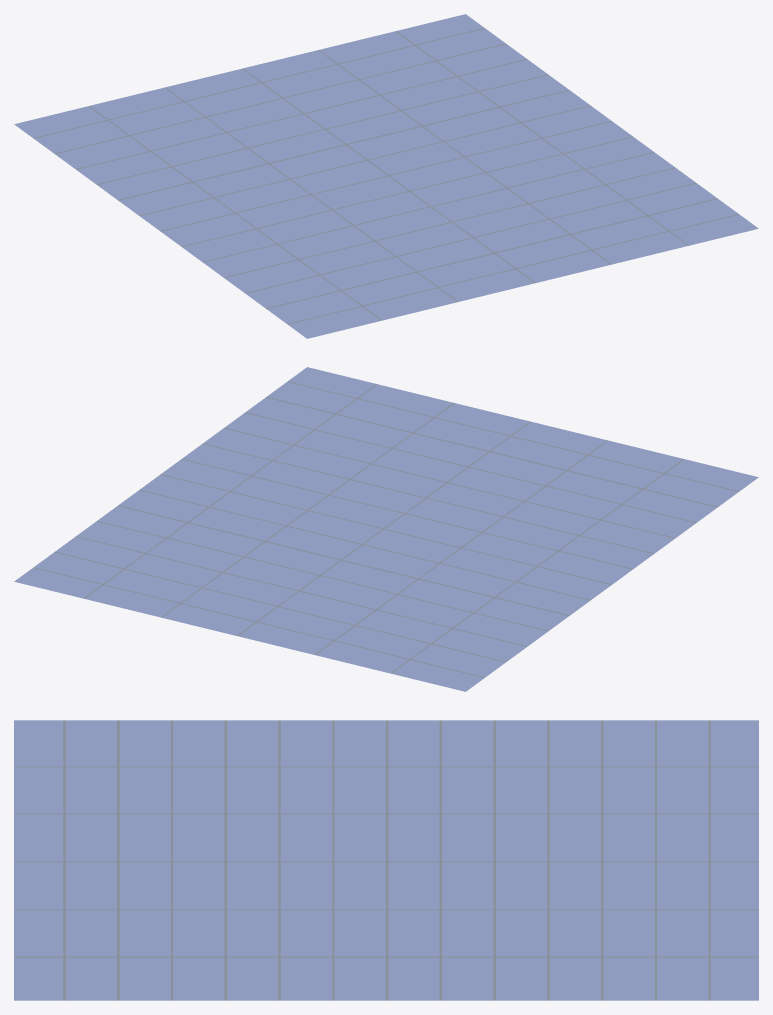
Rendered from Ceiling.fbx.
3 views of the same model, one above another, from view 1: azimuth 30°, elevation 25°; view 2: azimuth 150°, elevation 25°; view 3: azimuth 270°, elevation 25° (orthographic). The views are drawn at different scales.
Visible parts, largest first — view 1: DOME_019_Krusty_Burger.007; view 2: DOME_019_Krusty_Burger.007; view 3: DOME_019_Krusty_Burger.007.
Boxes of the visible parts, x1,y1,x2,y2 form: DOME_019_Krusty_Burger.007: [14, 14, 758, 338]; DOME_019_Krusty_Burger.007: [14, 367, 758, 691]; DOME_019_Krusty_Burger.007: [14, 720, 758, 1000].
Size of the model in its own units: 1593 by 0.000135 by 1791.
1 material, 1 textured.
